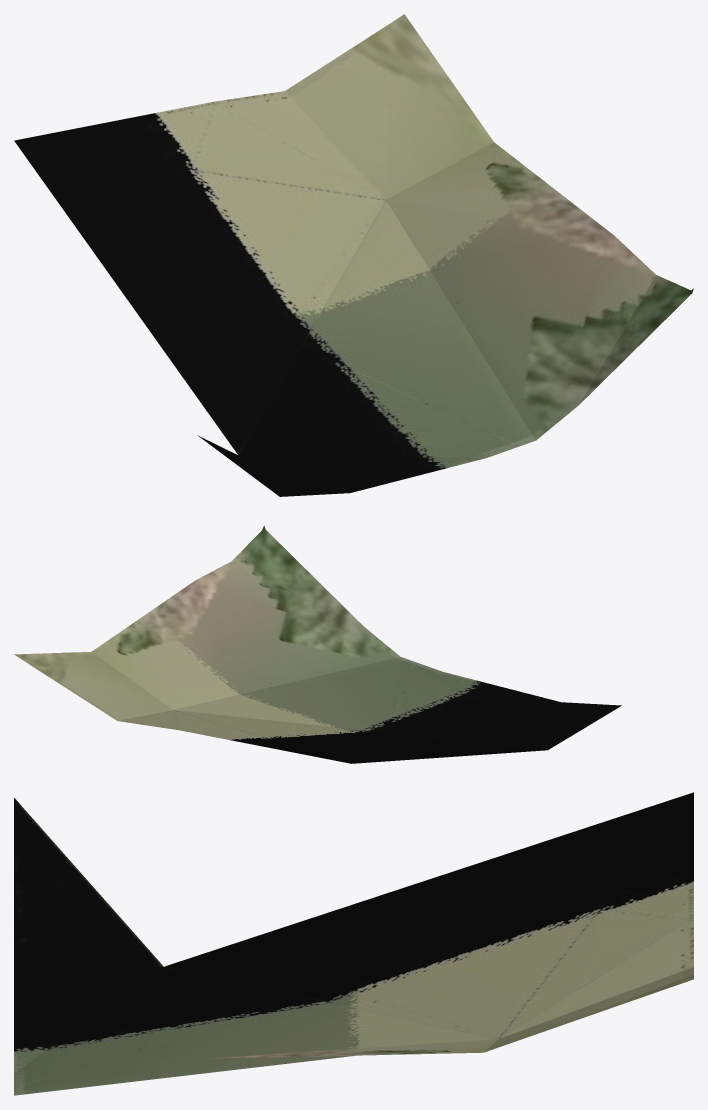
3 views of the same model, one above another, from view 1: azimuth 30°, elevation 25°; view 2: azimuth 150°, elevation 25°; view 3: azimuth 270°, elevation 25° (orthographic). The views are drawn at different scales.
Size of the model in its own units: 5.85 by 2.06 by 5.9.
Materials: 3 (3 with a texture image).
